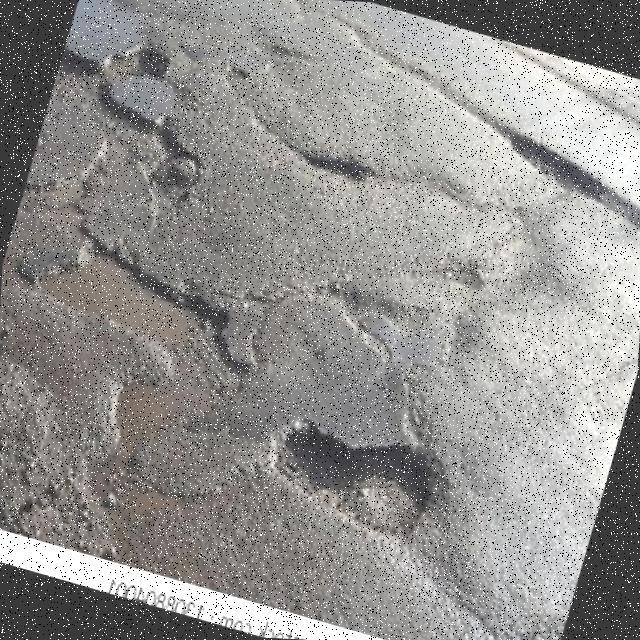Pothole: (39, 239, 252, 453), (52, 46, 199, 200), (278, 419, 430, 541)
